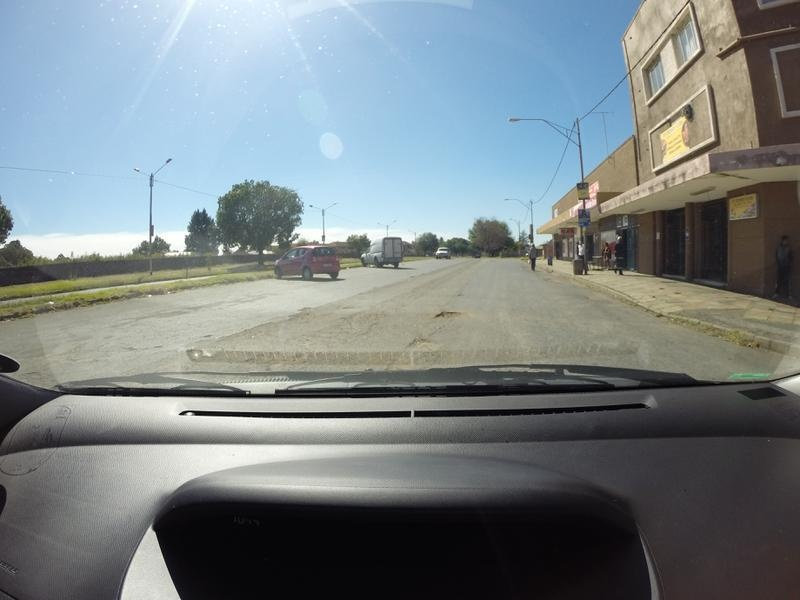pothole: (402, 331, 469, 350), (431, 304, 472, 320)
